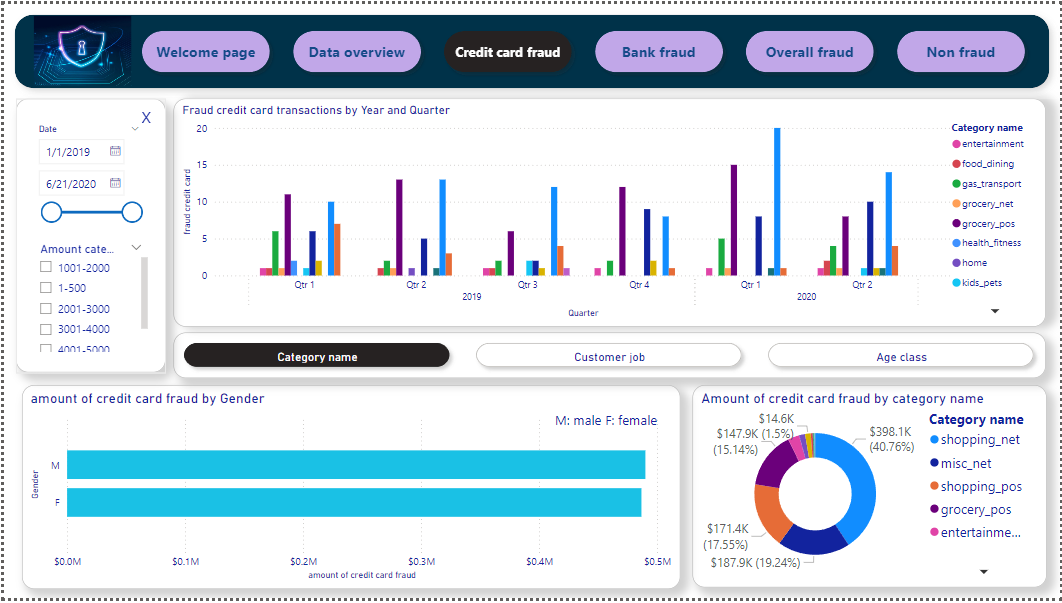

The dashboard page shown, as its layout file describes it:
{"tool":"powerbi","page":{"name":"Credit card fraud","canvas":[1280,720],"ordinal":2},"visuals":[{"type":"actionButton","box":[0,0,1280,115],"z":0,"group":"g2"},{"type":"advancedSlicerVisual","fields":{"Values":["dimensions.dimensions"]},"box":[205.6,398.3,1057.4,55.1],"z":0},{"type":"image","box":[30,9,128,95],"z":1000,"group":"g2"},{"type":"clusteredColumnChart","title":"Fraud credit card transactions by Year and Quarter","fields":{"Series":["fraud_dwh f_transaction.age_category"],"Category":["Calendar.Date.Variation.Date Hierarchy.Year","Calendar.Date.Variation.Date Hierarchy.Quarter"],"Y":["fraud_dwh f_transaction.fraud credit card"]},"box":[205.6,115,1057.4,276.9],"z":1000},{"type":"pageNavigator","box":[158.3,23.3,1090,68.3],"z":1500,"group":"g2"},{"type":"actionButton","box":[14.6,115,181.4,331.9],"z":2000,"group":"g1"},{"type":"donutChart","title":"Amount of credit card fraud by category name","fields":{"Y":["fraud_dwh f_transaction.amount of credit card fraud"],"Category":["fraud_dwh d_category.category_name"]},"box":[834.5,461.8,429.1,245.5],"z":2000},{"type":"slicer","fields":{"Values":["Calendar.Date"]},"box":[29.9,141,147.3,139.3],"z":3000,"group":"g1"},{"type":"clusteredBarChart","fields":{"Category":["fraud_dwh d_customer.gender"],"Y":["fraud_dwh f_transaction.amount of credit card fraud"]},"box":[21.8,461.8,798.2,247.3],"z":3000},{"type":"group","id":"g1","title":"Group 2","box":[14.6,115,181.4,331.9],"z":4000},{"type":"actionButton","box":[149.1,111.3,47.2,50.9],"z":5000},{"type":"actionButton","box":[639.6,484.1,179.7,40.5],"z":6000},{"type":"group","id":"g2","title":"Group 1","box":[0,0,1280,115],"z":7000},{"type":"slicer","fields":{"Values":["fraud_dwh f_transaction.amount_category"]},"box":[31.1,284.2,148.4,142.3],"z":7000,"group":"g1"}]}

Visuals, with their boxes in screenshot pixels (x1, y1, x2, y2), scaled from the page's 1280x720 canvas onto the 1062x603 screenshot:
actionButton: [0,0,1061,96]
advancedSlicerVisual - dimensions.dimensions: [171,334,1048,380]
image: [25,8,131,87]
"Fraud credit card transactions by Year and Quarter" clusteredColumnChart: [171,96,1048,328]
pageNavigator: [131,20,1036,77]
actionButton: [12,96,163,374]
"Amount of credit card fraud by category name" donutChart: [692,387,1048,592]
slicer - Calendar.Date: [25,118,147,235]
clusteredBarChart - fraud_dwh d_customer.gender x fraud_dwh f_transaction.amount of credit card fraud: [18,387,680,594]
"Group 2" group: [12,96,163,374]
actionButton: [124,93,163,136]
actionButton: [531,405,680,439]
"Group 1" group: [0,0,1061,96]
slicer - fraud_dwh f_transaction.amount_category: [26,238,149,357]
